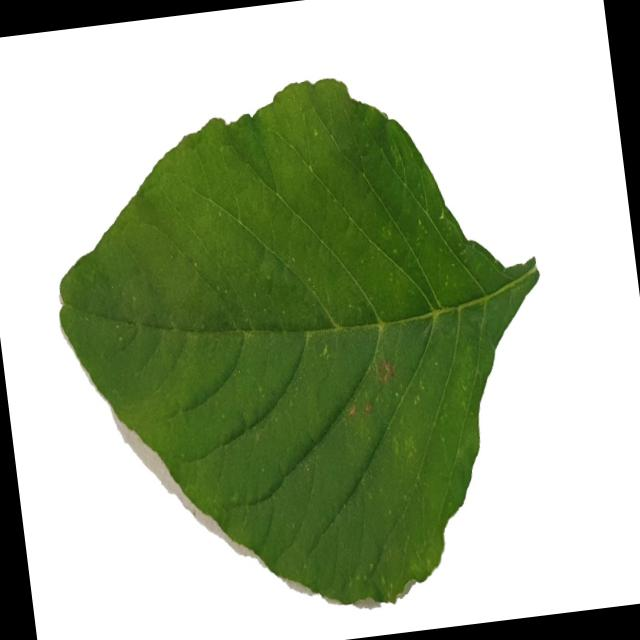Medicinal-Arive Dantu: (35, 48, 575, 640)
